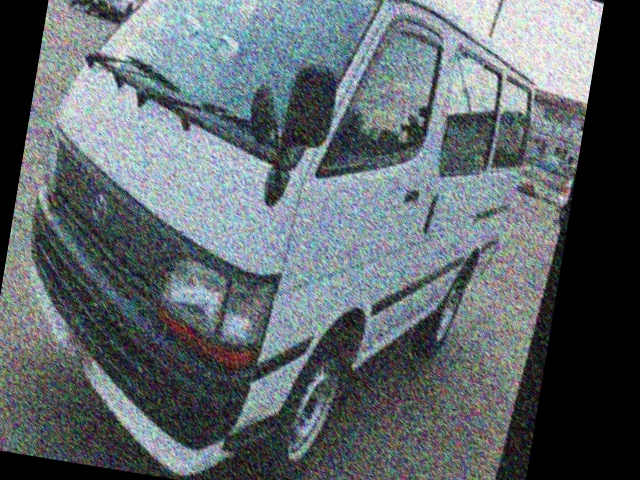van: (0, 0, 564, 480)
